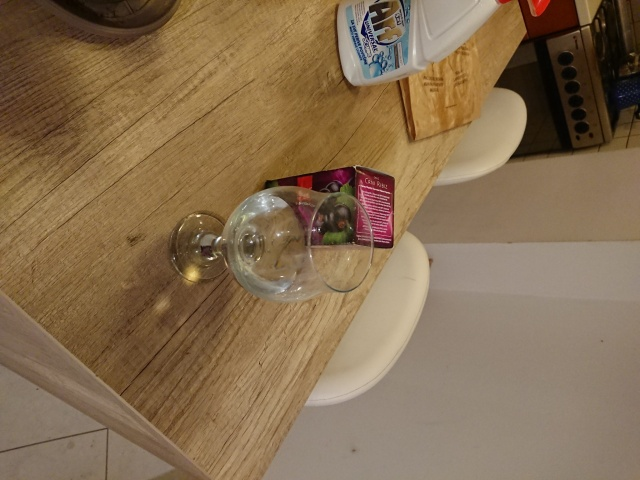Franck Black Currant Tea 60g: (258, 162, 398, 252)
